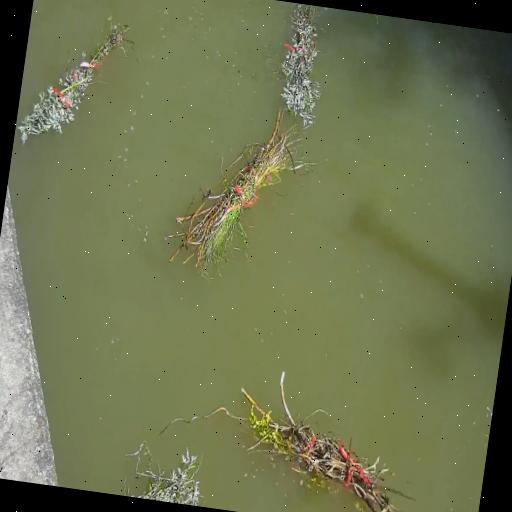twig: (169, 110, 305, 272), (243, 390, 398, 512), (18, 24, 133, 143), (282, 3, 320, 127), (131, 442, 201, 506)
